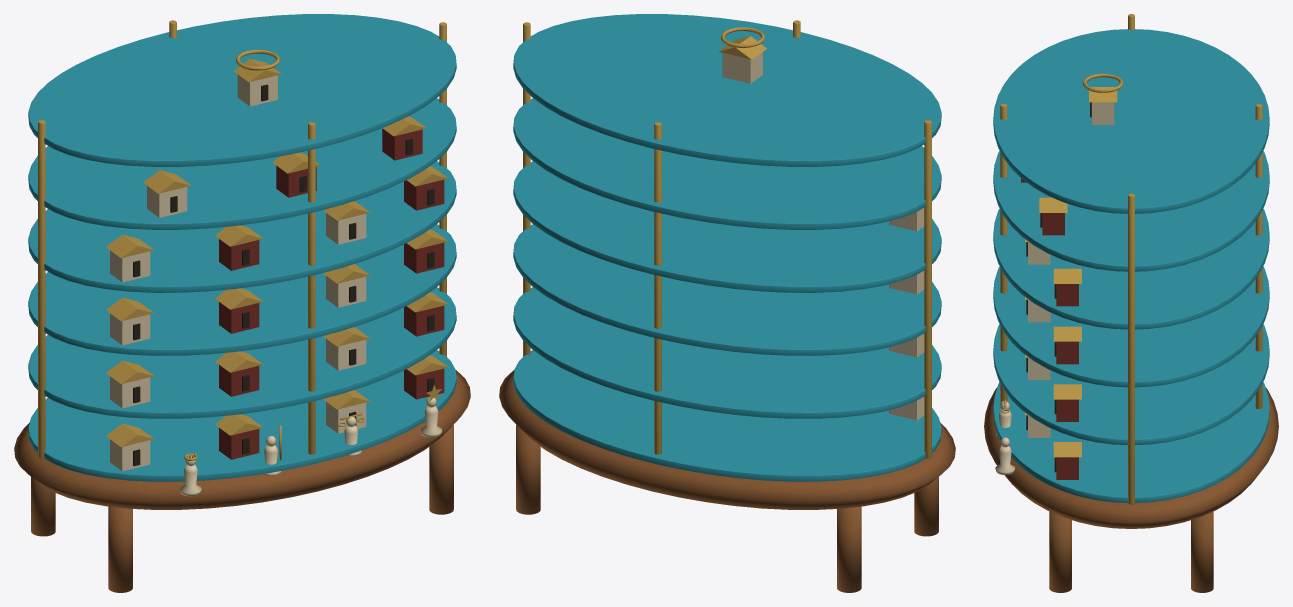
3 renders of one model, left to right at view 1: azimuth 30°, elevation 25°; view 2: azimuth 150°, elevation 25°; view 3: azimuth 270°, elevation 25°, orthographic. The views are drawn at different scales.
Parts seen in each view (by area): view 1: TI053 / separate oval board.005, TI053 / separate oval board.004, TI053 / separate oval board.001, TI053 / separate oval board.002, TI053 / separate oval board.003, TI053 / separate oval board, TI053 / oval game table base, TI053 / board support column.002, TI053 / board support column.003, TI053 / turned table leg, TI053 / turned table leg.002, TI053 / turned table leg.001 (+30 smaller); view 2: TI053 / separate oval board.005, TI053 / separate oval board.004, TI053 / separate oval board, TI053 / separate oval board.001, TI053 / separate oval board.002, TI053 / separate oval board.003, TI053 / oval game table base, TI053 / board support column.002, TI053 / board support column.001, TI053 / turned table leg.001, TI053 / turned table leg.003, TI053 / turned table leg (+2 smaller); view 3: TI053 / separate oval board.005, TI053 / separate oval board.004, TI053 / separate oval board.003, TI053 / separate oval board.002, TI053 / separate oval board.001, TI053 / separate oval board, TI053 / oval game table base, TI053 / board support column, TI053 / turned table leg.002, TI053 / turned table leg.003, TI053 / board support column.001, TI053 / board support column.003 (+12 smaller).
Boxes of the visible parts, left/top/right/bottom form: TI053 / separate oval board.005: left=28, top=14, right=456, bottom=166; TI053 / separate oval board.004: left=28, top=98, right=456, bottom=229; TI053 / separate oval board.001: left=28, top=287, right=456, bottom=418; TI053 / separate oval board.002: left=28, top=224, right=456, bottom=355; TI053 / separate oval board.003: left=28, top=161, right=456, bottom=292; TI053 / separate oval board: left=28, top=350, right=456, bottom=481; TI053 / oval game table base: left=14, top=370, right=470, bottom=509; TI053 / board support column.002: left=38, top=120, right=45, bottom=458; TI053 / board support column.003: left=308, top=122, right=315, bottom=454; TI053 / turned table leg: left=108, top=506, right=132, bottom=592; TI053 / turned table leg.002: left=429, top=425, right=453, bottom=514; TI053 / turned table leg.001: left=31, top=477, right=55, bottom=536; TI053 / separate oval board.005: left=513, top=14, right=941, bottom=166; TI053 / separate oval board.004: left=513, top=98, right=941, bottom=229; TI053 / separate oval board: left=513, top=350, right=941, bottom=481; TI053 / separate oval board.001: left=513, top=287, right=941, bottom=418; TI053 / separate oval board.002: left=513, top=224, right=941, bottom=355; TI053 / separate oval board.003: left=513, top=161, right=941, bottom=292; TI053 / oval game table base: left=499, top=370, right=955, bottom=509; TI053 / board support column.002: left=924, top=120, right=931, bottom=458; TI053 / board support column.001: left=654, top=122, right=661, bottom=454; TI053 / turned table leg.001: left=837, top=506, right=861, bottom=592; TI053 / turned table leg.003: left=516, top=425, right=540, bottom=514; TI053 / turned table leg: left=914, top=477, right=938, bottom=536; TI053 / separate oval board.005: left=993, top=29, right=1269, bottom=213; TI053 / separate oval board.004: left=993, top=150, right=1269, bottom=271; TI053 / separate oval board.003: left=993, top=208, right=1269, bottom=329; TI053 / separate oval board.002: left=993, top=266, right=1269, bottom=387; TI053 / separate oval board.001: left=993, top=324, right=1269, bottom=444; TI053 / separate oval board: left=993, top=382, right=1269, bottom=502; TI053 / oval game table base: left=984, top=388, right=1278, bottom=528; TI053 / board support column: left=1128, top=193, right=1134, bottom=504; TI053 / turned table leg.002: left=1049, top=511, right=1071, bottom=592; TI053 / turned table leg.003: left=1191, top=511, right=1213, bottom=592; TI053 / board support column.001: left=1255, top=104, right=1262, bottom=409; TI053 / board support column.003: left=1000, top=104, right=1007, bottom=407.
Bounding box in the file's own units: 3.2 × 3.38 × 2.08.
